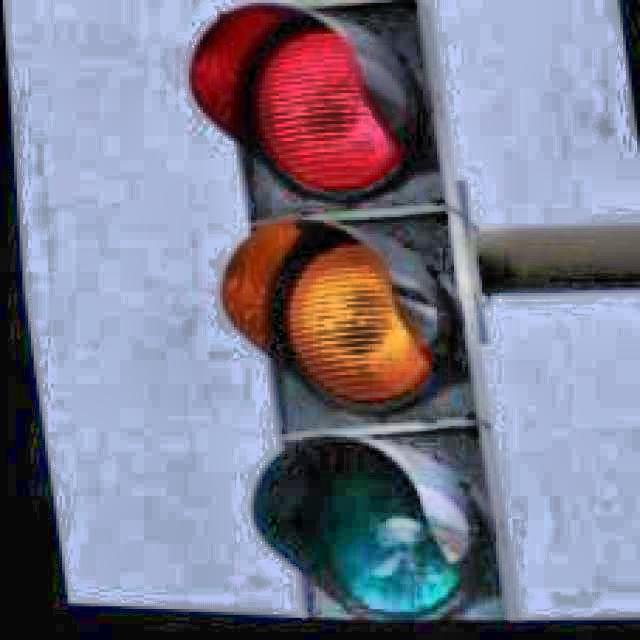red: (165, 0, 518, 632)
